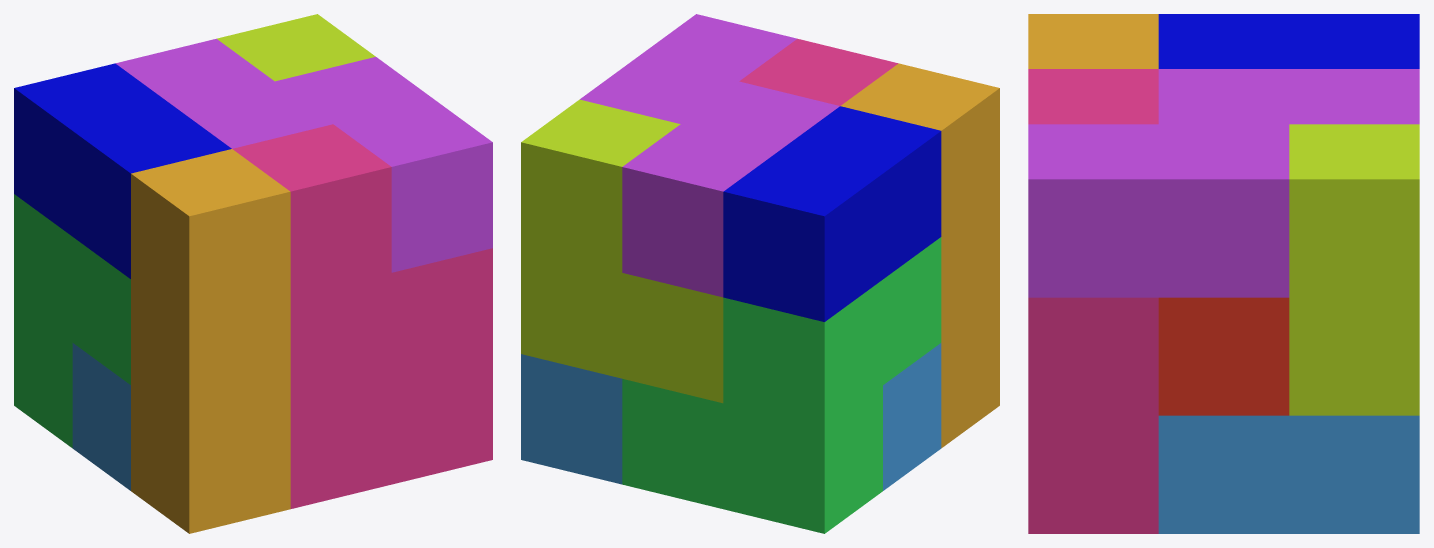
File: cube_puzzle.glb
3 renders of one model, left to right at view 1: azimuth 30°, elevation 25°; view 2: azimuth 150°, elevation 25°; view 3: azimuth 270°, elevation 25°, orthographic. The views are drawn at different scales.
Parts seen in each view (by area): view 1: piece 5, piece1, piece7, piece3, piece 4, piece8, piece6; view 2: piece 4, piece6, piece3, piece7, piece1, piece8, piece 5; view 3: piece7, piece 5, piece6, piece8, piece2, piece3, piece1.
Part boxes in pixels (x1,y1,x2,y2): piece 5: (232, 124, 492, 508); piece1: (131, 149, 290, 533); piece7: (115, 38, 492, 272); piece3: (14, 63, 231, 278); piece 4: (14, 194, 130, 448); piece8: (72, 343, 130, 490); piece6: (217, 14, 375, 81); piece 4: (622, 237, 941, 533); piece6: (521, 99, 723, 403); piece3: (723, 106, 941, 321); piece7: (580, 14, 839, 297); piece1: (840, 63, 999, 448); piece8: (521, 343, 941, 490); piece 5: (739, 38, 898, 105); piece7: (1028, 69, 1419, 297); piece 5: (1028, 69, 1158, 533); piece6: (1289, 124, 1419, 415); piece8: (1158, 415, 1419, 533); piece2: (1158, 297, 1289, 415); piece3: (1158, 14, 1419, 68); piece1: (1028, 14, 1158, 68).
Size of the model in its own units: 6 by 6 by 6.
